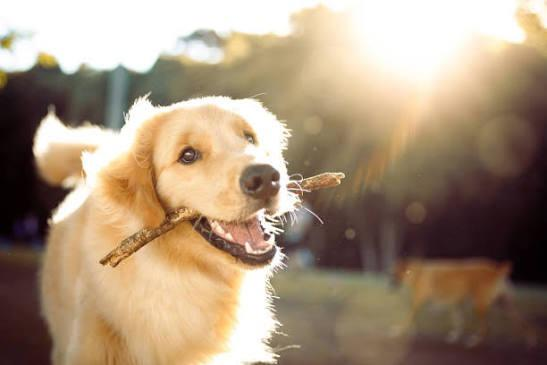adult_dog: (26, 88, 304, 365), (386, 249, 517, 346)
